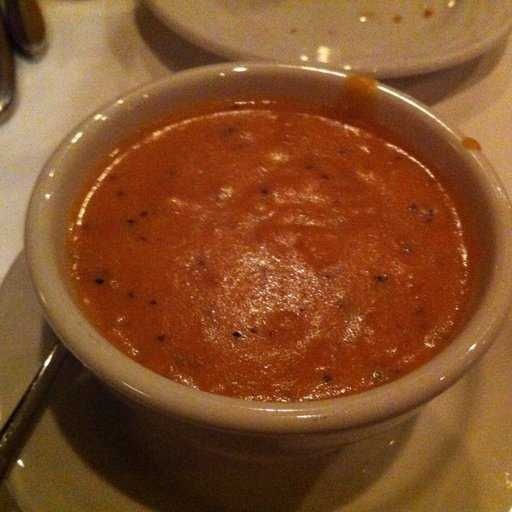soup: (58, 118, 418, 366)
